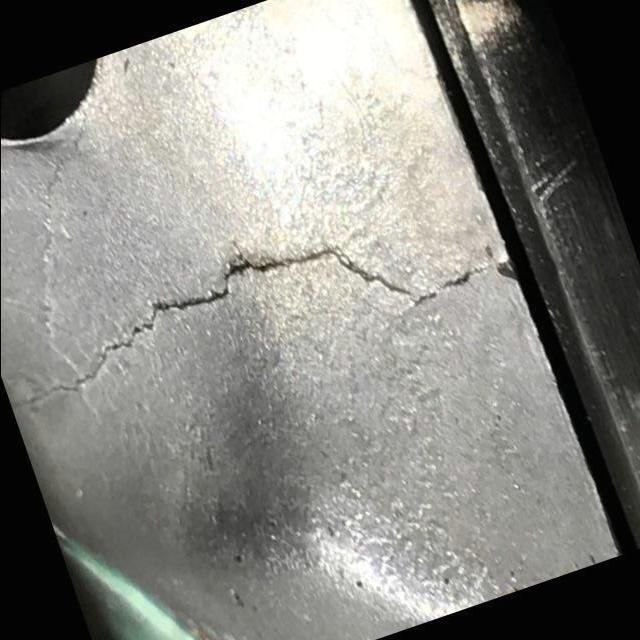defect: (16, 239, 506, 414)
